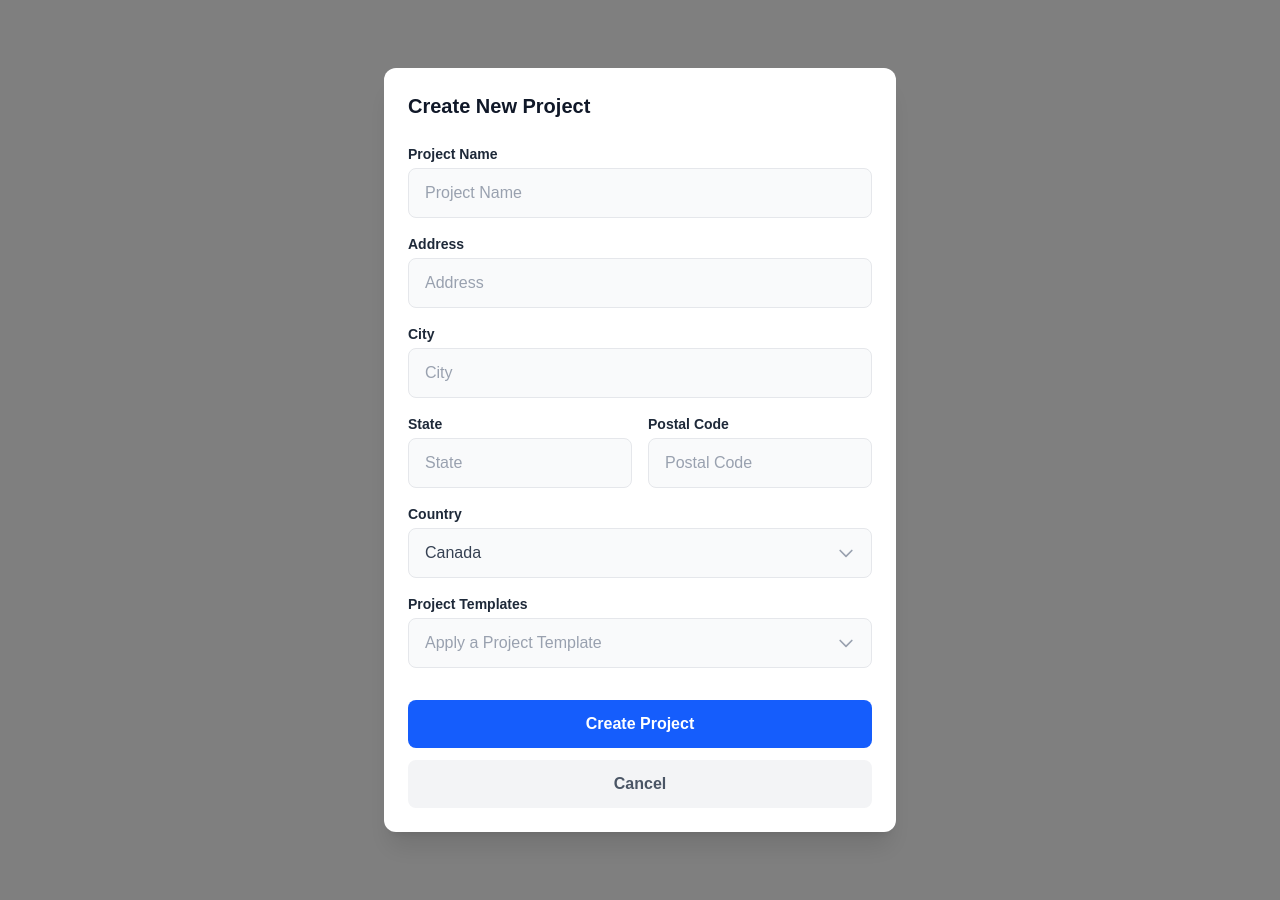
Test case: CreateProjectModal › should show Creating... while loading
In the field labelled "Project Name": coordinates (640, 193) [408, 168, 872, 218], type "Test"
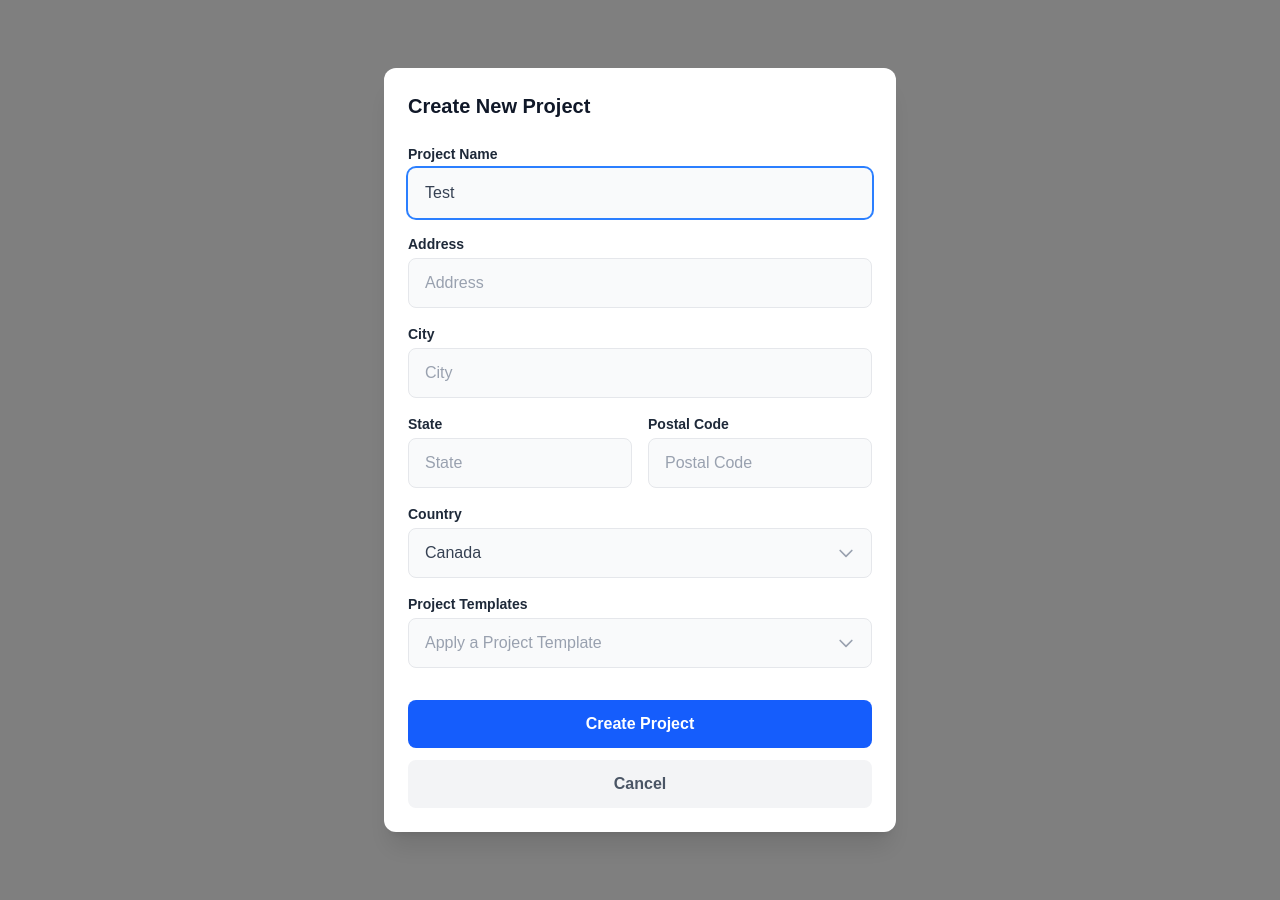
Click the button "Create Project": coordinates (640, 724) [408, 700, 872, 748]
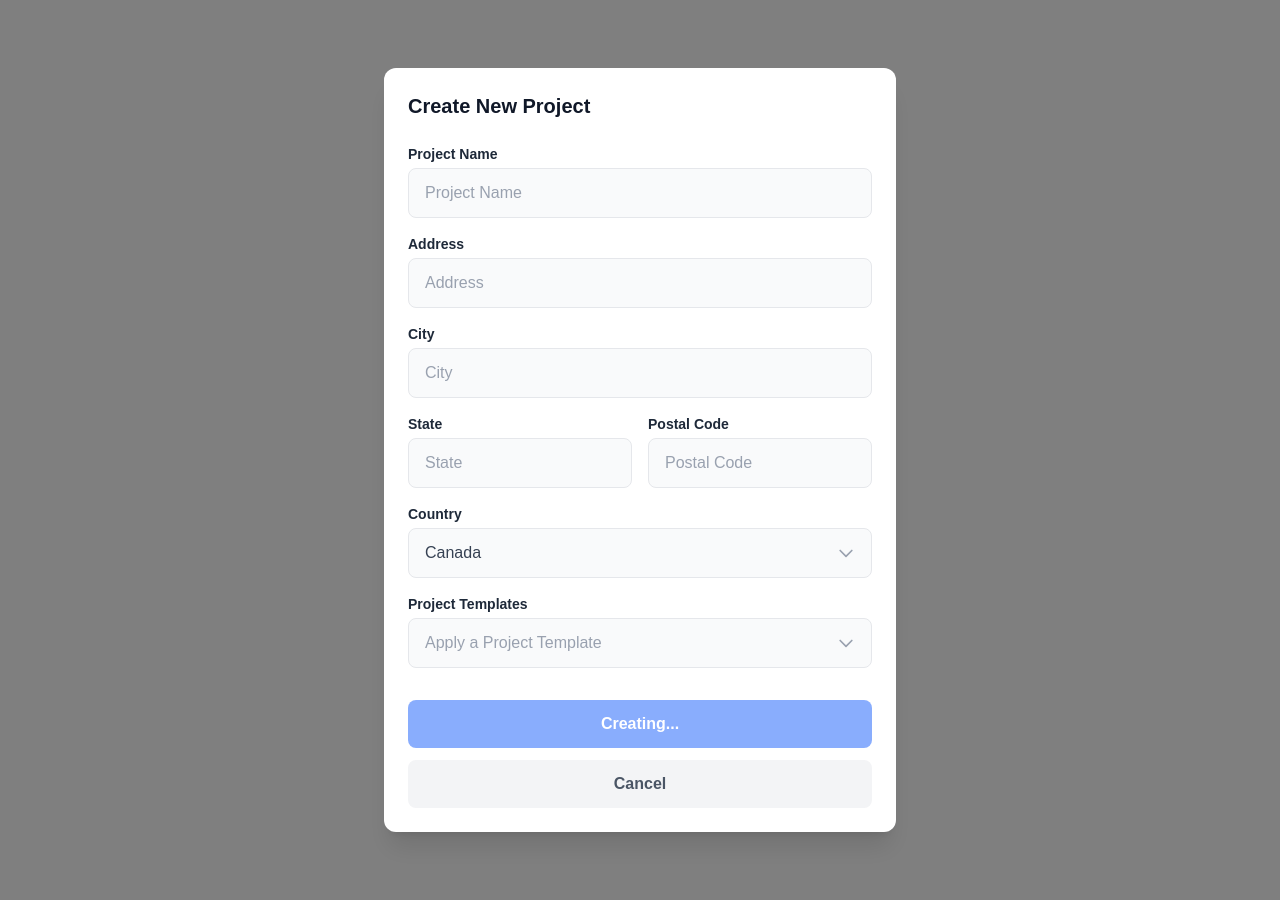
Now the button "Creating..." is shown, box [408, 700, 872, 748]
